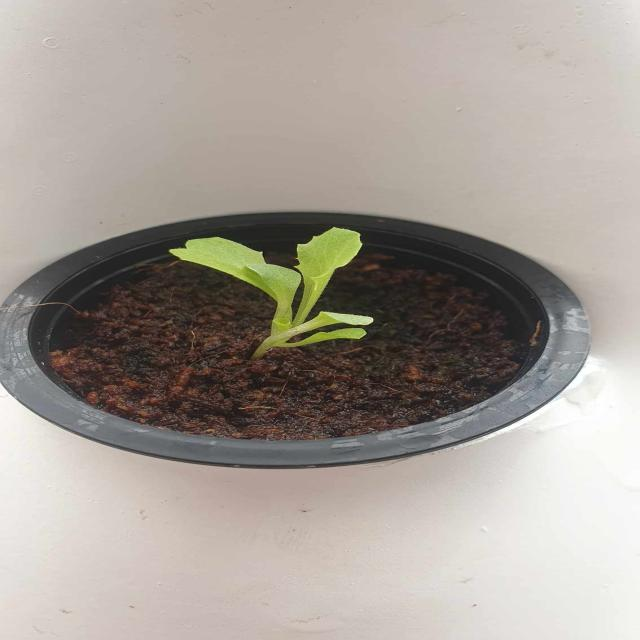Lettuce-Not-Ready-to-Harvest: (178, 223, 438, 372)
